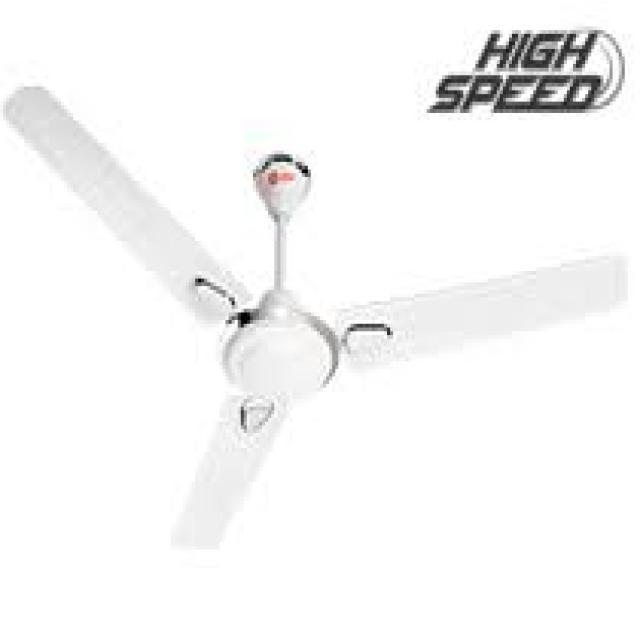fan_off: (2, 83, 630, 551)
